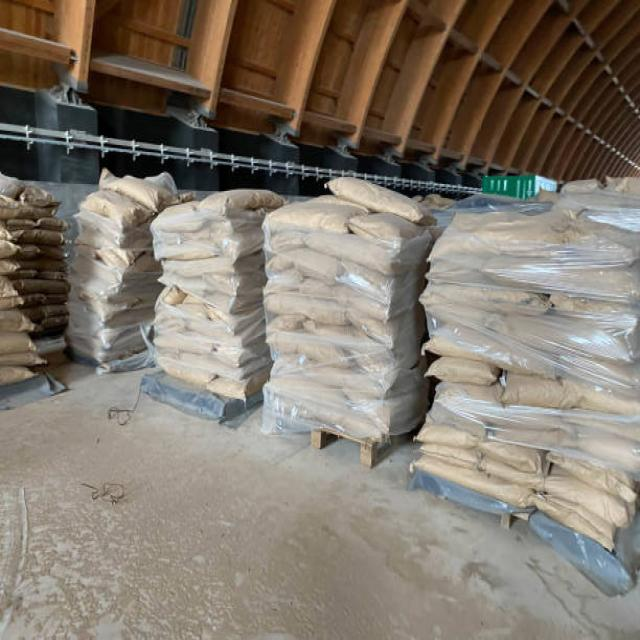Wooden-Pallets: (265, 397, 378, 474)
